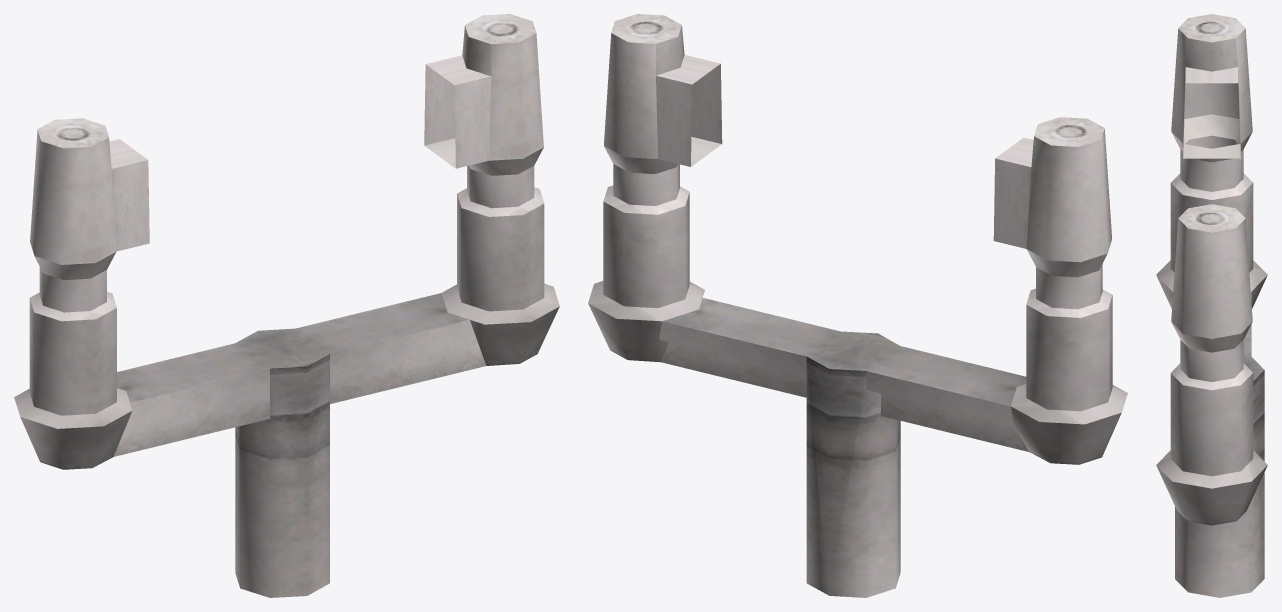
The model's file is yt1300_turret_base_l0.fbx.
3 views of the same model, side by side, from view 1: azimuth 30°, elevation 25°; view 2: azimuth 150°, elevation 25°; view 3: azimuth 270°, elevation 25° (orthographic). The views are drawn at different scales.
Parts seen in each view (by area): view 1: mesh_node; view 2: mesh_node; view 3: mesh_node.
Part boxes in pixels (bbox=[...]): mesh_node: bbox=[14, 14, 559, 597]; mesh_node: bbox=[588, 14, 1127, 597]; mesh_node: bbox=[1156, 14, 1267, 597].
Bounding box in the file's own units: 1.73 × 1.55 × 0.3448.
1 material, 1 textured.
